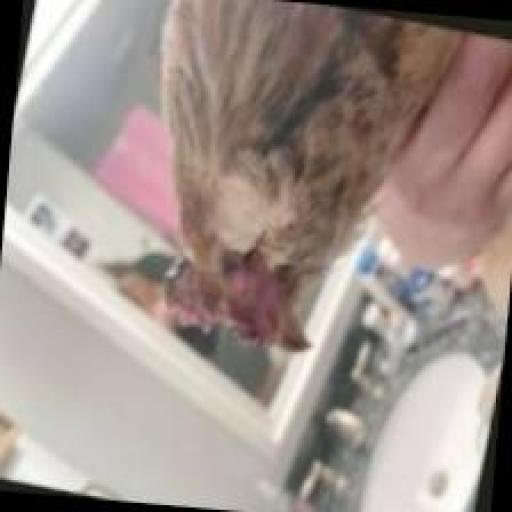disease: (138, 229, 330, 378)
